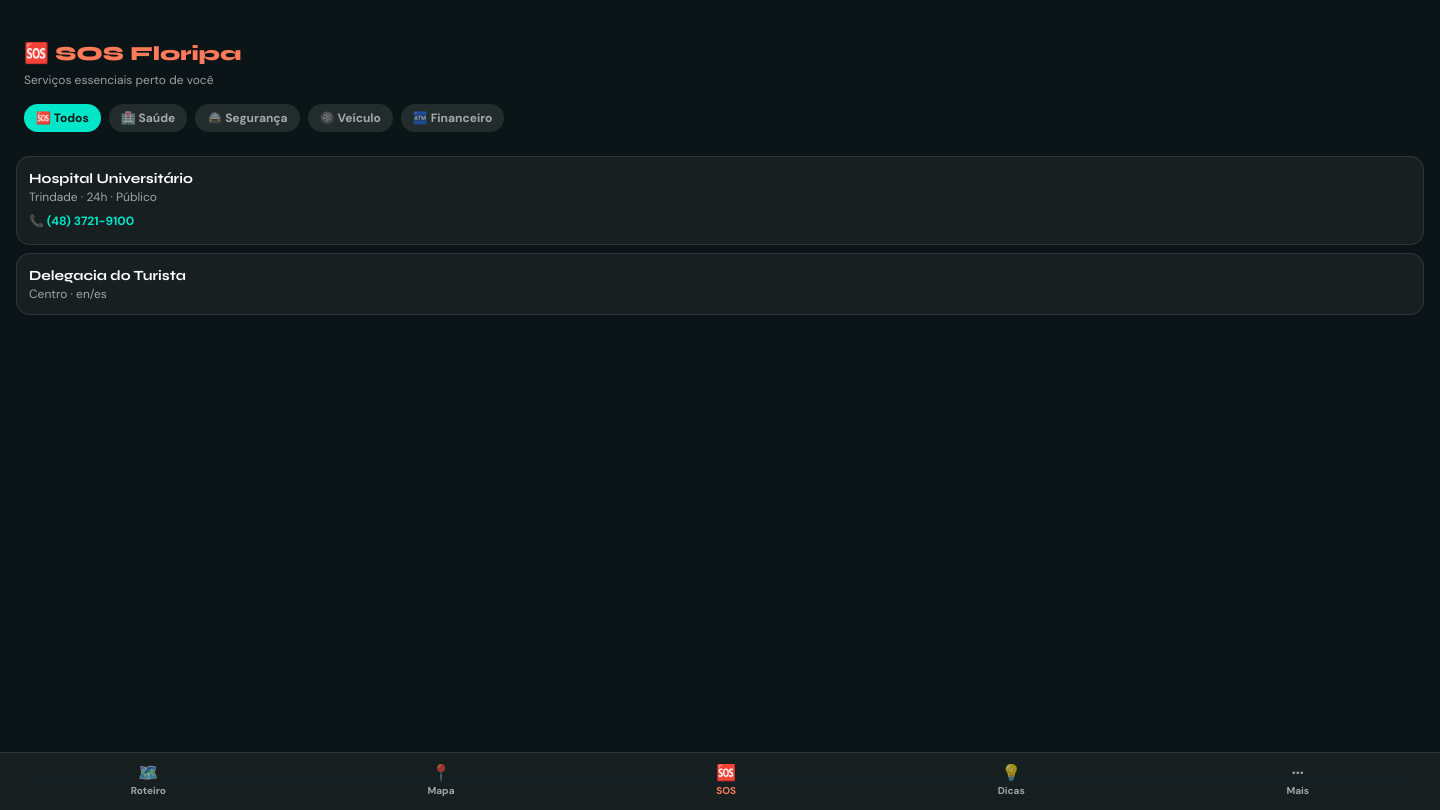
it: SosView › filters to a single category when its chip is clicked
This screenshot has width=1440, height=810.
Step 1. Click the button "🏥 Saúde" → (148, 118), box [109,104,187,132]
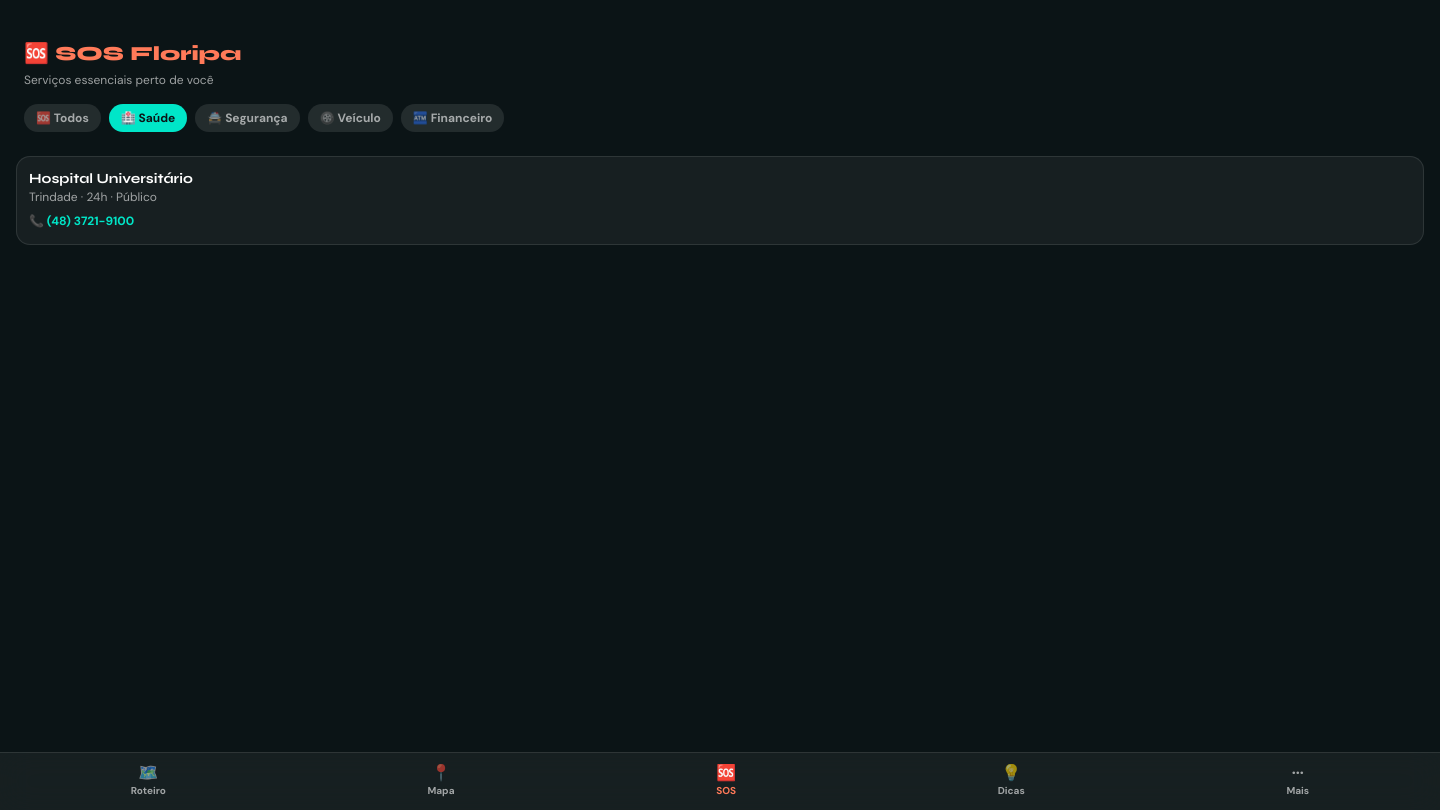
expect the text "Hospital Universitário" is shown: met, box [29,170,193,187]
expect the text "Delegacia do Turista" is gone: met
